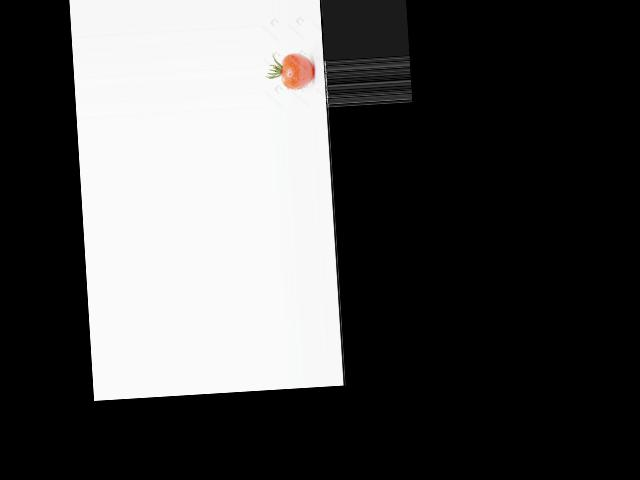tomato: (280, 51, 315, 89)
